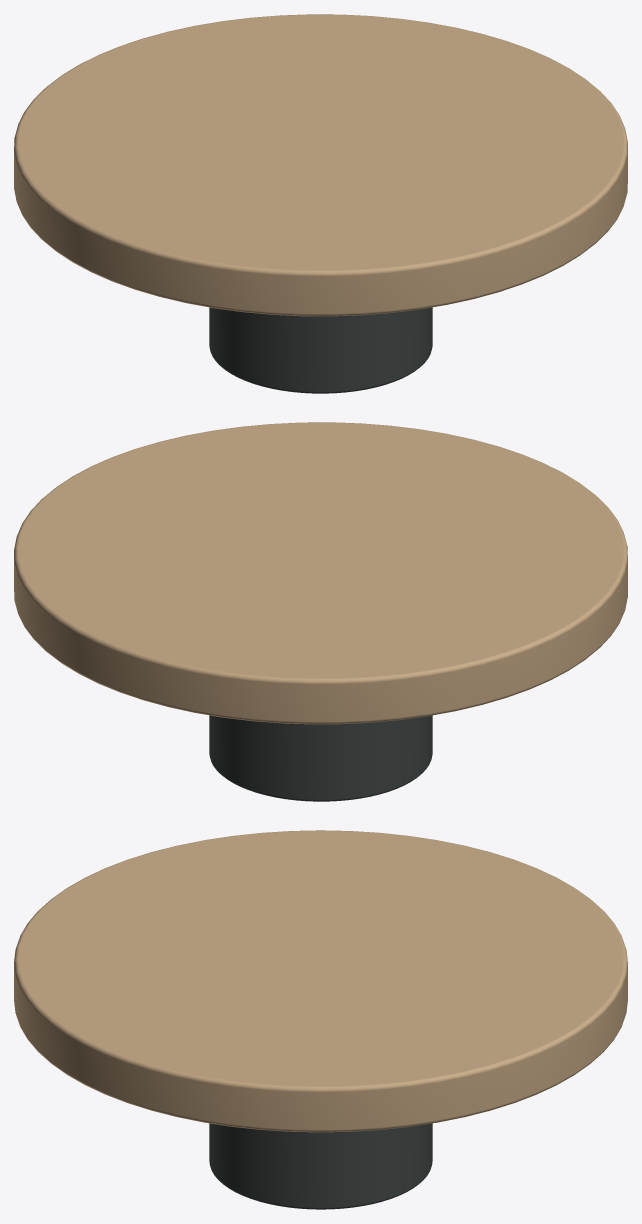
File: table-detail.glb
The picture shows the model from 3 angles, top to bottom: view 1: azimuth 30°, elevation 25°; view 2: azimuth 150°, elevation 25°; view 3: azimuth 270°, elevation 25°; orthographic projection.
Visible parts, largest first — view 1: Rounded table top, Table pedestal; view 2: Rounded table top, Table pedestal; view 3: Rounded table top, Table pedestal.
Boxes of the visible parts, x1,y1,x2,y2 form: Rounded table top: (14,14,627,316); Table pedestal: (209,307,432,393); Rounded table top: (14,422,627,724); Table pedestal: (209,715,432,801); Rounded table top: (14,830,627,1132); Table pedestal: (209,1123,432,1209).
Bounding box in the file's own units: 1.1 × 0.405 × 1.1.
